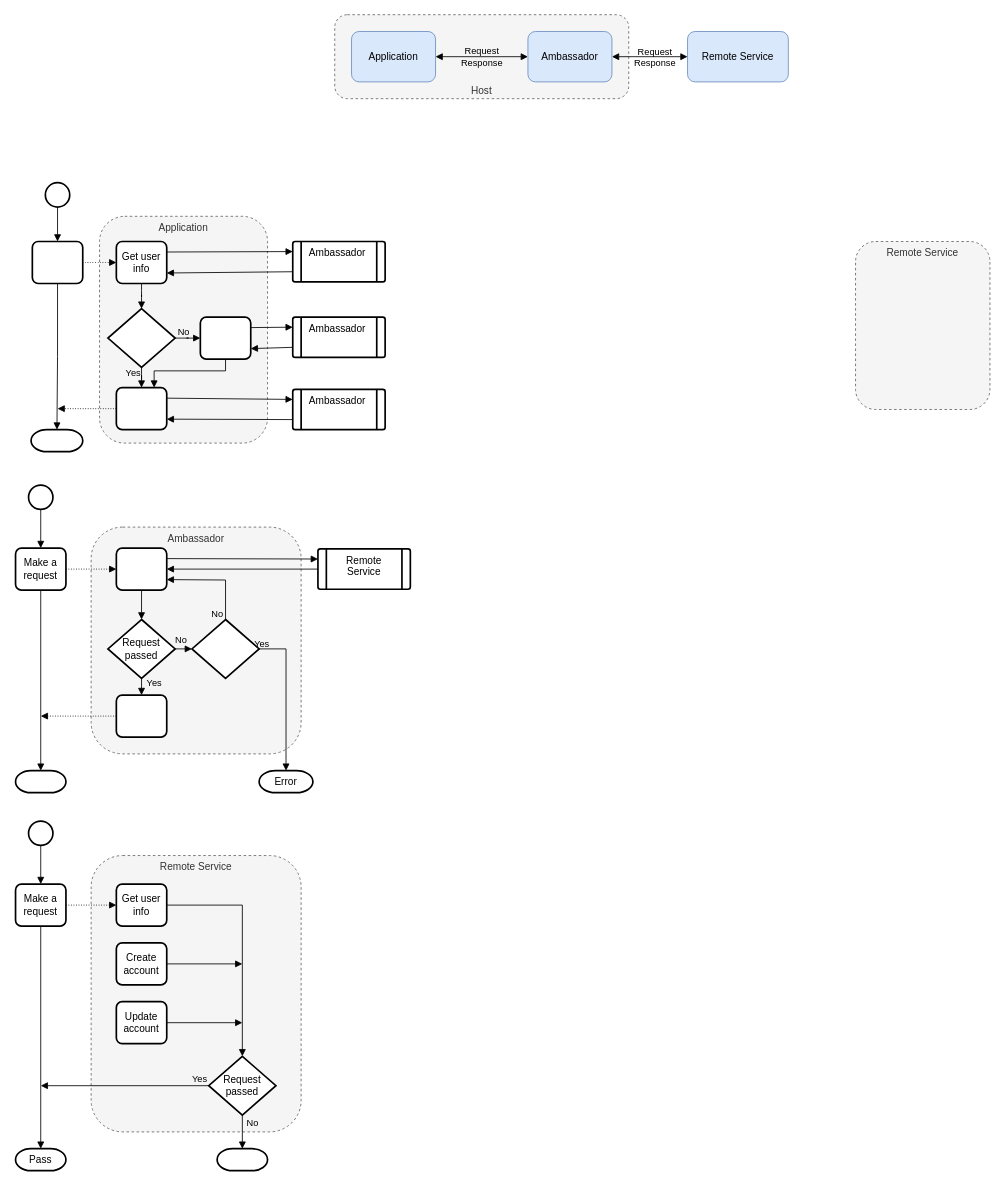
Some shapes in this 1005 by 1186 pixel diagram are drawn without their labels. Each missing label, with the centre of its shape:
"Create user account" goes at (225,338).
"Fail" goes at (242,1159).
"Format data" goes at (141,716).
"Load money for user" goes at (57,262).
"Make request" goes at (141,569).
"Retry limit reached" goes at (225,648).
"Update balance" goes at (141,408).
"User has account" goes at (141,337).
